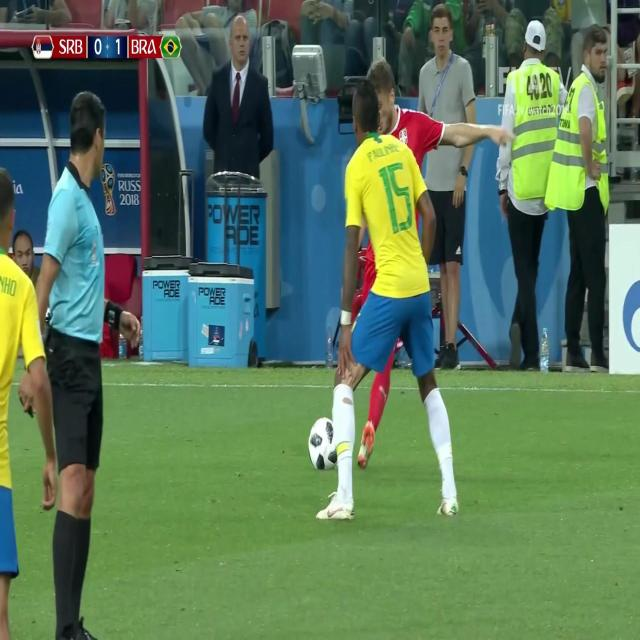ball: (305, 413, 337, 472)
player: (310, 43, 471, 547), (296, 88, 462, 523), (23, 70, 128, 640), (0, 165, 61, 630)
